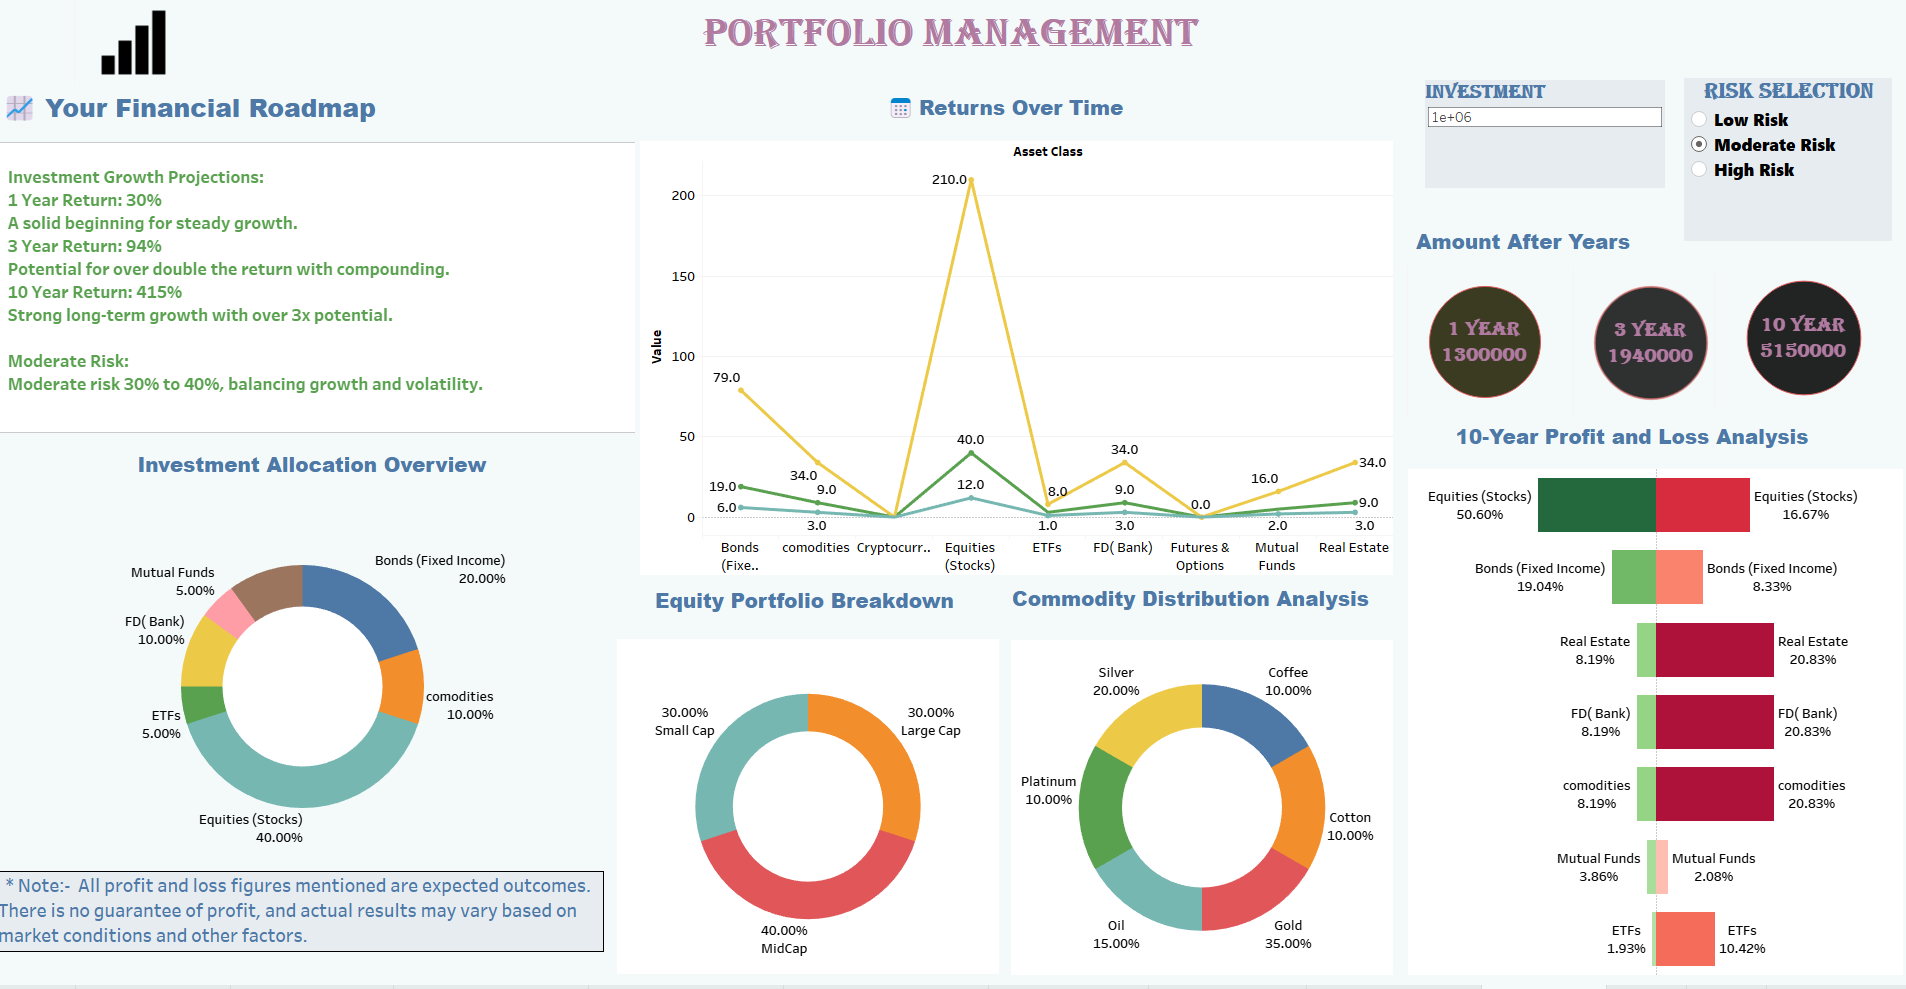

This screenshot's page, from the dashboard's own definition file:
{"tool":"tableau","page":{"name":"Dashboard 1","canvas":[1000,1000],"units":"permille","ordinal":0},"visuals":[{"type":"worksheet","title":"Sheet 36","mark":"Shape","rows":["Calculation_1812135905712029697"],"box":[43.5,7.5,62.8,87.4]},{"type":"title","box":[4.8,10,990.3,81.2]},{"type":"parameter","param":"[Parameters].[Parameter 1]","box":[881.7,86.1,108.6,164.8]},{"type":"parameter","param":"[Parameters].[Parameter 2]","box":[747.1,88.6,124.9,108.6]},{"type":"worksheet","title":"Heading Your Financial Roadmap","mark":"Automatic","box":[3,93.6,332.3,52.4]},{"type":"worksheet","title":"Returns Over years","mark":"Automatic","box":[341,97.4,377.8,47.4]},{"type":"worksheet","title":"Return For Low","mark":"Line","cols":["Asset Class"],"box":[338,149.8,392.3,436.9]},{"type":"worksheet","title":"Return For Moderate","mark":"Line","cols":["Asset Class"],"box":[338,149.8,392.3,436.9]},{"type":"worksheet","title":"Return For High","mark":"Line","cols":["Asset Class"],"box":[338,149.8,392.3,436.9]},{"type":"worksheet","title":"heading Summary","mark":"Automatic","rows":["Calculation_882705533022289921"],"box":[4.8,151.1,330.5,293.4]},{"type":"worksheet","title":"Heading Summary","mark":"Automatic","rows":["Calculation_882705533028532226"],"box":[4.8,151.1,330.5,293.4]},{"type":"worksheet","title":"High Risk Summary","mark":"Automatic","rows":["Calculation_882705533028896771"],"box":[4.8,152.3,330.5,292.1]},{"type":"worksheet","title":"Heading Amount After Years","mark":"Automatic","box":[739.9,232.2,137.6,44.9]},{"type":"worksheet","title":"1 Year Low Amount","mark":"Circle","rows":["Calculation_1812135905712029697"],"box":[737.5,275.9,81.5,153.6]},{"type":"worksheet","title":"1 Year Moderate Amount","mark":"Circle","rows":["Calculation_1812135905712029697"],"box":[737.5,275.9,81.5,153.6]},{"type":"worksheet","title":"1 Year High Amount","mark":"Circle","rows":["Calculation_1812135905712029697"],"box":[737.5,275.9,81.5,153.6]},{"type":"worksheet","title":"3 Years Low Amount","mark":"Circle","rows":["Calculation_1812135905712029697"],"box":[823.8,277.2,81.5,153.6]},{"type":"worksheet","title":"3 Year Moderate Amount","mark":"Circle","rows":["Calculation_1812135905712029697"],"box":[823.8,277.2,81.5,153.6]},{"type":"worksheet","title":"3 year High Amount","mark":"Circle","rows":["Calculation_1812135905712029697"],"box":[823.8,277.2,81.5,153.6]},{"type":"worksheet","title":"10 Year Low Amount","mark":"Circle","rows":["Calculation_1812135905712029697"],"box":[897.4,278.4,93.5,141.1]},{"type":"worksheet","title":"10 Year Moderate Amount","mark":"Circle","rows":["Calculation_1812135905712029697"],"box":[897.4,278.4,93.5,141.1]},{"type":"worksheet","title":"10 years High Amount","mark":"Circle","rows":["Calculation_1812135905712029697"],"box":[897.4,278.4,93.5,141.1]},{"type":"worksheet","title":"Heading 10 Years Profit and Loss Analysis","mark":"Automatic","box":[709.1,429.5,291.5,44.9]},{"type":"worksheet","title":"Heading Investment Allocation Overview","mark":"Automatic","box":[3,456.9,328.2,51.2]},{"type":"worksheet","title":"Low Risk Vs profit","mark":"Automatic","rows":["Asset Class"],"cols":["Low(Last 10-Year Return (%))","Low Risk (Potential Loss (%) Of  Total Capital)"],"box":[738.1,480.7,257.7,509.4]},{"type":"worksheet","title":"Moderate Risk Vs Profit","mark":"Automatic","rows":["Asset Class"],"cols":["Moderate(Last 10-Year Return (%))","Moderate Risk (Potential Loss (%) Of  Total Capital)"],"box":[738.1,480.7,257.7,509.4]},{"type":"worksheet","title":"High Risk Vs Profit","mark":"Automatic","rows":["Asset Class"],"cols":["High(Last 10-Year Return (%))","High Risk (Potential Loss (%) Of  Total Capital)"],"box":[738.1,480.7,257.7,509.4]},{"type":"worksheet","title":"High Asset Allocation","mark":"Pie","rows":["Calculation_1812135905712029697","Calculation_1812135905712029697"],"box":[5.4,518.1,314.5,359.6]},{"type":"worksheet","title":"Low Asset Allocation","mark":"Pie","rows":["Calculation_1812135905712029697","Calculation_1812135905712029697"],"box":[5.4,520.6,314.3,357.1]},{"type":"worksheet","title":"Moderate Asset Allocation","mark":"Pie","rows":["Calculation_1812135905712029697","Calculation_1812135905712029697"],"box":[5.4,520.6,314.3,357.1]},{"type":"worksheet","title":"Heading Commodity Distribution Analysis","mark":"Automatic","box":[518.4,591.8,213,49.9]},{"type":"worksheet","title":"Heading Equity Portfolio BreakDown","mark":"Automatic","box":[321.1,594.3,205.8,47.4]},{"type":"worksheet","title":"Equities Distrubution For Low","mark":"Pie","rows":["Calculation_1812135905712029697","Calculation_1812135905712029697"],"box":[325.9,651.7,199.2,337.1]},{"type":"worksheet","title":"Equities Distrubution For Moderate","mark":"Pie","rows":["Calculation_1812135905712029697","Calculation_1812135905712029697"],"box":[325.9,651.7,199.2,337.1]},{"type":"worksheet","title":"Equities Distrubution For High","mark":"Pie","rows":["Calculation_1812135905712029697","Calculation_1812135905712029697"],"box":[325.9,651.7,199.2,337.1]},{"type":"worksheet","title":"Commodities Distrubution For Low Risk","mark":"Pie","rows":["Calculation_1812135905712029697","Calculation_1812135905712029697"],"box":[531.1,652.9,199.2,337.1]},{"type":"worksheet","title":"Commodities Distrubution For Moderate Risk","mark":"Pie","rows":["Calculation_1812135905712029697","Calculation_1812135905712029697"],"box":[531.1,652.9,199.2,337.1]},{"type":"worksheet","title":"Commodities Distrubution For High Risk","mark":"Pie","rows":["Calculation_1812135905712029697","Calculation_1812135905712029697"],"box":[531.1,652.9,199.2,337.1]},{"type":"worksheet","title":"Heading Note","mark":"Automatic","box":[3,885.1,316.2,98.6]}]}

Visuals, with their boxes on the dashboard's canvas, which has no fixed pixel size, in thousandths of its width and height (x1, y1, x2, y2). These are canvas units, not pixel positions in the 1906x989 screenshot, which may show the page scaled, cropped or inside an application window:
"Sheet 36" worksheet (Shape marks): {"x1": 44, "y1": 8, "x2": 106, "y2": 95}
title: {"x1": 5, "y1": 10, "x2": 995, "y2": 91}
parameter: {"x1": 882, "y1": 86, "x2": 990, "y2": 251}
parameter: {"x1": 747, "y1": 89, "x2": 872, "y2": 197}
"Heading Your Financial Roadmap" worksheet: {"x1": 3, "y1": 94, "x2": 335, "y2": 146}
"Returns Over years" worksheet: {"x1": 341, "y1": 97, "x2": 719, "y2": 145}
"Return For Low" worksheet (Line marks): {"x1": 338, "y1": 150, "x2": 730, "y2": 587}
"Return For Moderate" worksheet (Line marks): {"x1": 338, "y1": 150, "x2": 730, "y2": 587}
"Return For High" worksheet (Line marks): {"x1": 338, "y1": 150, "x2": 730, "y2": 587}
"heading Summary" worksheet: {"x1": 5, "y1": 151, "x2": 335, "y2": 444}
"Heading Summary" worksheet: {"x1": 5, "y1": 151, "x2": 335, "y2": 444}
"High Risk Summary" worksheet: {"x1": 5, "y1": 152, "x2": 335, "y2": 444}
"Heading Amount After Years" worksheet: {"x1": 740, "y1": 232, "x2": 878, "y2": 277}
"1 Year Low Amount" worksheet (Circle marks): {"x1": 738, "y1": 276, "x2": 819, "y2": 430}
"1 Year Moderate Amount" worksheet (Circle marks): {"x1": 738, "y1": 276, "x2": 819, "y2": 430}
"1 Year High Amount" worksheet (Circle marks): {"x1": 738, "y1": 276, "x2": 819, "y2": 430}
"3 Years Low Amount" worksheet (Circle marks): {"x1": 824, "y1": 277, "x2": 905, "y2": 431}
"3 Year Moderate Amount" worksheet (Circle marks): {"x1": 824, "y1": 277, "x2": 905, "y2": 431}
"3 year High Amount" worksheet (Circle marks): {"x1": 824, "y1": 277, "x2": 905, "y2": 431}
"10 Year Low Amount" worksheet (Circle marks): {"x1": 897, "y1": 278, "x2": 991, "y2": 420}
"10 Year Moderate Amount" worksheet (Circle marks): {"x1": 897, "y1": 278, "x2": 991, "y2": 420}
"10 years High Amount" worksheet (Circle marks): {"x1": 897, "y1": 278, "x2": 991, "y2": 420}
"Heading 10 Years Profit and Loss Analysis" worksheet: {"x1": 709, "y1": 430, "x2": 1001, "y2": 474}
"Heading Investment Allocation Overview" worksheet: {"x1": 3, "y1": 457, "x2": 331, "y2": 508}
"Low Risk Vs profit" worksheet: {"x1": 738, "y1": 481, "x2": 996, "y2": 990}
"Moderate Risk Vs Profit" worksheet: {"x1": 738, "y1": 481, "x2": 996, "y2": 990}
"High Risk Vs Profit" worksheet: {"x1": 738, "y1": 481, "x2": 996, "y2": 990}
"High Asset Allocation" worksheet (Pie marks): {"x1": 5, "y1": 518, "x2": 320, "y2": 878}
"Low Asset Allocation" worksheet (Pie marks): {"x1": 5, "y1": 521, "x2": 320, "y2": 878}
"Moderate Asset Allocation" worksheet (Pie marks): {"x1": 5, "y1": 521, "x2": 320, "y2": 878}
"Heading Commodity Distribution Analysis" worksheet: {"x1": 518, "y1": 592, "x2": 731, "y2": 642}
"Heading Equity Portfolio BreakDown" worksheet: {"x1": 321, "y1": 594, "x2": 527, "y2": 642}
"Equities Distrubution For Low" worksheet (Pie marks): {"x1": 326, "y1": 652, "x2": 525, "y2": 989}
"Equities Distrubution For Moderate" worksheet (Pie marks): {"x1": 326, "y1": 652, "x2": 525, "y2": 989}
"Equities Distrubution For High" worksheet (Pie marks): {"x1": 326, "y1": 652, "x2": 525, "y2": 989}
"Commodities Distrubution For Low Risk" worksheet (Pie marks): {"x1": 531, "y1": 653, "x2": 730, "y2": 990}
"Commodities Distrubution For Moderate Risk" worksheet (Pie marks): {"x1": 531, "y1": 653, "x2": 730, "y2": 990}
"Commodities Distrubution For High Risk" worksheet (Pie marks): {"x1": 531, "y1": 653, "x2": 730, "y2": 990}
"Heading Note" worksheet: {"x1": 3, "y1": 885, "x2": 319, "y2": 984}
